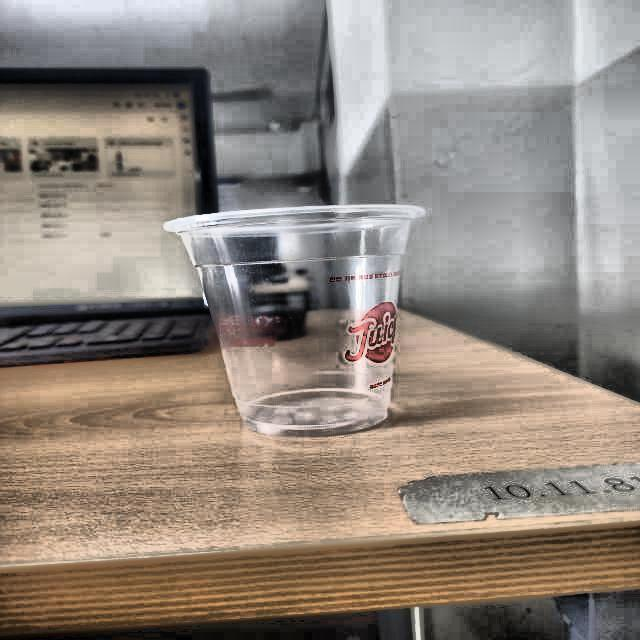plastic cup: (162, 200, 427, 434)
